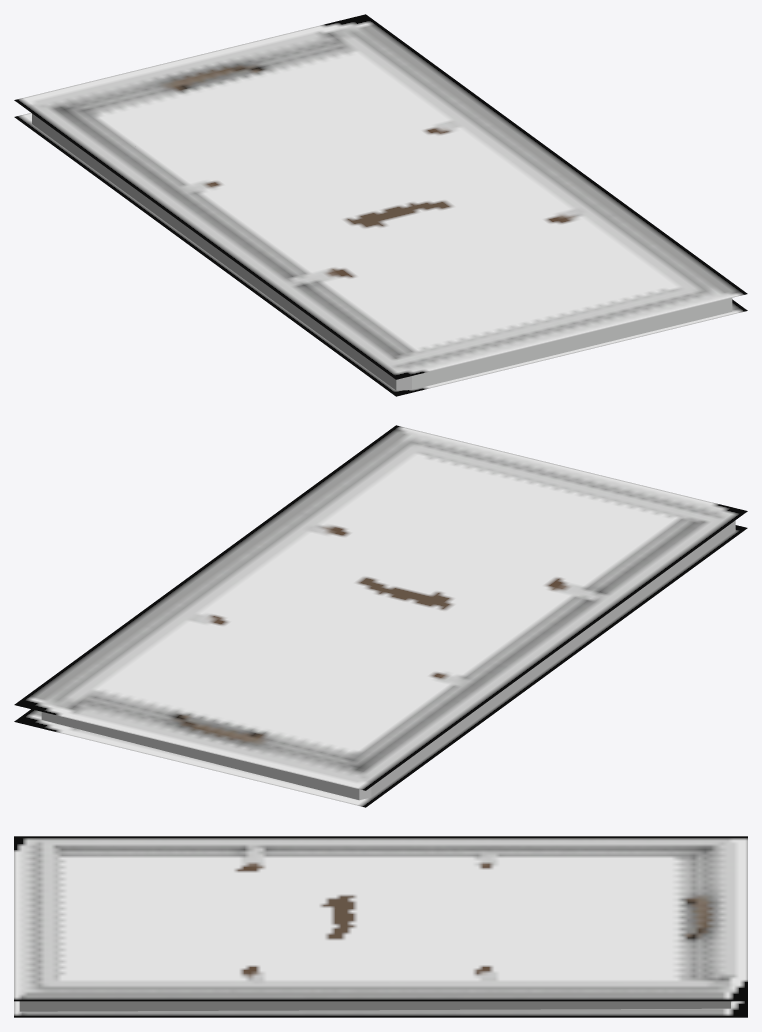
Rendered from pz_native_fixtures_windows_white_105_frame.obj.
The picture shows the model from 3 angles, top to bottom: view 1: azimuth 30°, elevation 25°; view 2: azimuth 150°, elevation 25°; view 3: azimuth 270°, elevation 25°; orthographic projection. The views are drawn at different scales.
Visible parts, largest first — view 1: pz_native_fixtures_windows_white_105_frame; view 2: pz_native_fixtures_windows_white_105_frame; view 3: pz_native_fixtures_windows_white_105_frame.
Boxes of the visible parts, left/top/right/bottom form: pz_native_fixtures_windows_white_105_frame: left=14, top=14, right=747, bottom=396; pz_native_fixtures_windows_white_105_frame: left=14, top=425, right=747, bottom=807; pz_native_fixtures_windows_white_105_frame: left=14, top=836, right=747, bottom=1017.
Size of the model in its own units: 0.875 by 0.04 by 1.65.
1 material, 1 textured.
